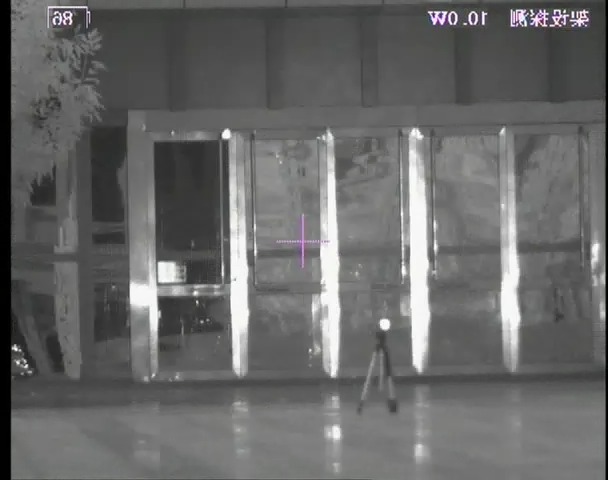my: (377, 317, 392, 332)
